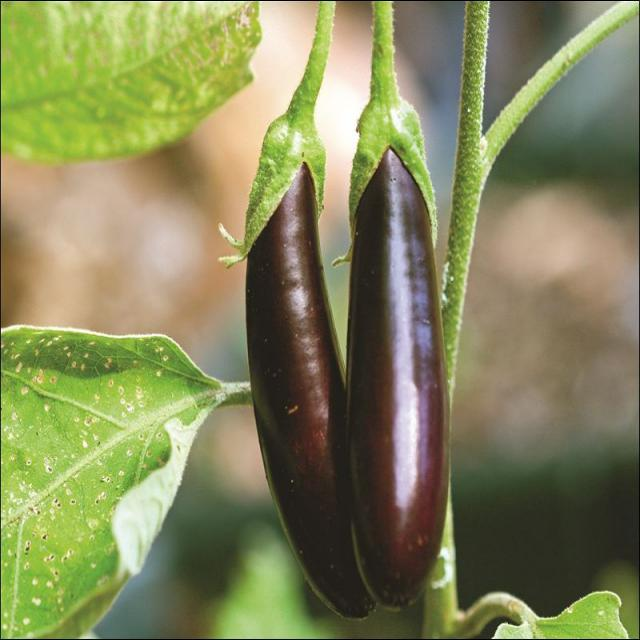eggplant: (346, 98, 446, 613), (242, 101, 344, 529)
